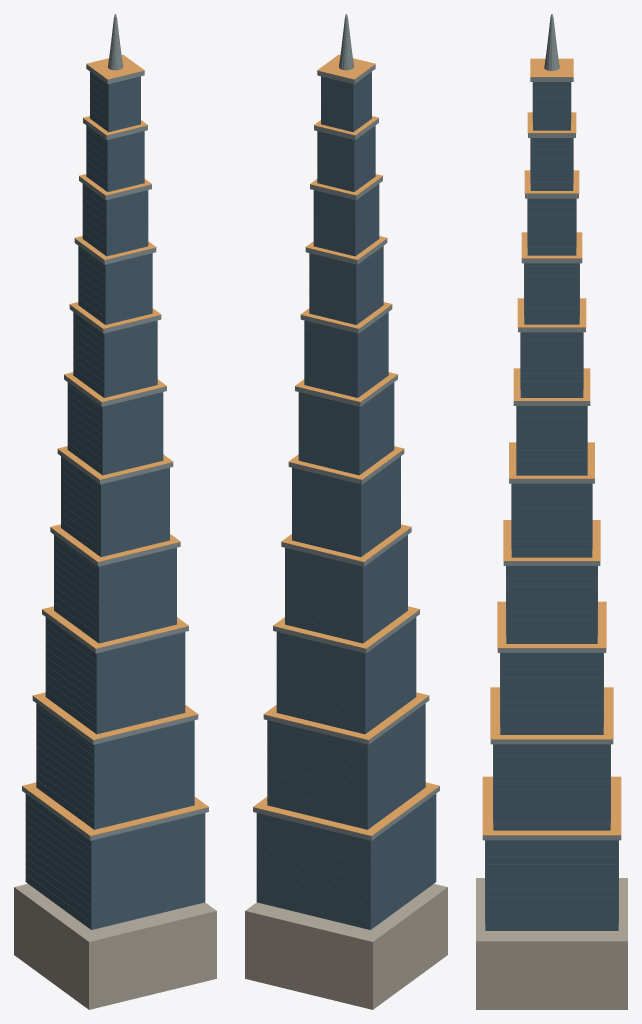
The model's file is jinmao_near.glb.
The picture shows the model from 3 angles, left to right: view 1: azimuth 30°, elevation 25°; view 2: azimuth 150°, elevation 25°; view 3: azimuth 270°, elevation 25°; orthographic projection.
Parts seen in each view (by area): view 1: Glazing, Limestone, Steel, NightWarm, Silver; view 2: Glazing, Limestone, Steel, NightWarm, Silver; view 3: Glazing, Limestone, NightWarm, Steel, Silver.
Part boxes in pixels (x1,y1,x2,y2): Glazing: (25,72,205,929); Limestone: (14,884,216,1009); Steel: (26,78,204,921); NightWarm: (22,54,208,835); Silver: (22,14,208,840); Glazing: (256,72,436,929); Limestone: (245,884,447,1009); Steel: (257,78,435,921); NightWarm: (253,54,439,835); Silver: (253,14,439,840); Glazing: (485,82,618,930); Limestone: (476,878,627,1009); NightWarm: (482,58,621,835); Steel: (485,82,618,922); Silver: (482,14,621,840).
Size of the model in its own units: 59 by 420 by 60.
